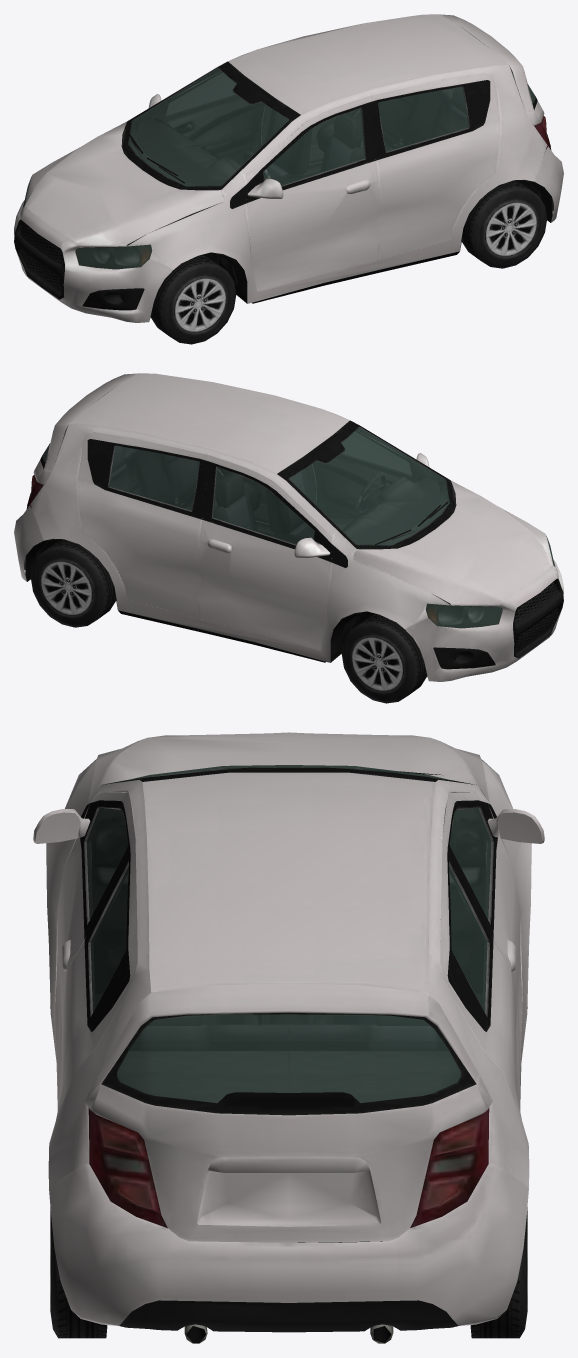
Rendered from car-ace11.glb.
3 views of the same model, one above another, from view 1: azimuth 30°, elevation 25°; view 2: azimuth 150°, elevation 25°; view 3: azimuth 270°, elevation 25° (orthographic). The views are drawn at different scales.
Parts seen in each view (by area): view 1: body_MODERNHATCH_body_0, door_fl_MODERNHATCH_body_0, door_rl_MODERNHATCH_body_0, body_MODERNHATCH_INTERIOR_0, hood_MODERNHATCH_body_0, body_GLASS_0, bumper_front_MODERNHATCH_body_0, wheel_fl_MODERNHATCH_body_0, wheel_rl_MODERNHATCH_body_0, door_fr_MODERNHATCH_INTERIOR_0, door_fl_GLASS_0, door_rl_GLASS_0 (+6 smaller); view 2: body_MODERNHATCH_body_0, door_fr_MODERNHATCH_body_0, door_rr_MODERNHATCH_body_0, body_MODERNHATCH_INTERIOR_0, hood_MODERNHATCH_body_0, body_GLASS_0, bumper_front_MODERNHATCH_body_0, wheel_fr_MODERNHATCH_body_0, wheel_rr_MODERNHATCH_body_0, door_fr_GLASS_0, door_rr_GLASS_0, door_fl_MODERNHATCH_INTERIOR_0 (+6 smaller); view 3: body_MODERNHATCH_body_0, door_rear_MODERNHATCH_body_0, bumper_rear_MODERNHATCH_body_0, body_MODERNHATCH_INTERIOR_0, door_rear_GLASS_0, hood_MODERNHATCH_body_0, door_rl_MODERNHATCH_body_0, door_fl_MODERNHATCH_body_0, door_rr_MODERNHATCH_body_0, door_fr_MODERNHATCH_body_0, door_fl_GLASS_0, door_fr_GLASS_0 (+5 smaller).
Part boxes in pixels (bbox=[...]): body_MODERNHATCH_body_0: bbox=[119, 14, 552, 318]; door_fl_MODERNHATCH_body_0: bbox=[245, 96, 378, 291]; door_rl_MODERNHATCH_body_0: bbox=[368, 73, 500, 259]; body_MODERNHATCH_INTERIOR_0: bbox=[128, 28, 535, 285]; hood_MODERNHATCH_body_0: bbox=[24, 121, 224, 247]; body_GLASS_0: bbox=[128, 68, 288, 186]; bumper_front_MODERNHATCH_body_0: bbox=[14, 200, 172, 322]; wheel_fl_MODERNHATCH_body_0: bbox=[150, 255, 236, 344]; wheel_rl_MODERNHATCH_body_0: bbox=[461, 180, 547, 268]; door_fr_MODERNHATCH_INTERIOR_0: bbox=[150, 70, 264, 159]; door_fl_GLASS_0: bbox=[263, 108, 365, 185]; door_rl_GLASS_0: bbox=[378, 86, 468, 151]; body_MODERNHATCH_body_0: bbox=[25, 373, 493, 677]; door_fr_MODERNHATCH_body_0: bbox=[199, 455, 332, 650]; door_rr_MODERNHATCH_body_0: bbox=[77, 432, 209, 618]; body_MODERNHATCH_INTERIOR_0: bbox=[42, 387, 449, 644]; hood_MODERNHATCH_body_0: bbox=[353, 480, 553, 606]; body_GLASS_0: bbox=[289, 427, 449, 545]; bumper_front_MODERNHATCH_body_0: bbox=[405, 559, 563, 681]; wheel_fr_MODERNHATCH_body_0: bbox=[341, 614, 427, 703]; wheel_rr_MODERNHATCH_body_0: bbox=[30, 539, 116, 627]; door_fr_GLASS_0: bbox=[212, 467, 314, 544]; door_rr_GLASS_0: bbox=[109, 445, 199, 510]; door_fl_MODERNHATCH_INTERIOR_0: bbox=[313, 429, 427, 518]; body_MODERNHATCH_body_0: bbox=[46, 760, 531, 1343]; door_rear_MODERNHATCH_body_0: bbox=[85, 983, 492, 1242]; bumper_rear_MODERNHATCH_body_0: bbox=[49, 1164, 528, 1332]; body_MODERNHATCH_INTERIOR_0: bbox=[91, 767, 486, 1102]; door_rear_GLASS_0: bbox=[117, 1014, 460, 1103]; hood_MODERNHATCH_body_0: bbox=[88, 732, 489, 802]; door_rl_MODERNHATCH_body_0: bbox=[56, 838, 137, 1119]; door_fl_MODERNHATCH_body_0: bbox=[33, 790, 135, 1086]; door_rr_MODERNHATCH_body_0: bbox=[440, 839, 521, 1119]; door_fr_MODERNHATCH_body_0: bbox=[442, 790, 544, 1086]; door_fl_GLASS_0: bbox=[86, 807, 128, 919]; door_fr_GLASS_0: bbox=[449, 807, 491, 919].
Size of the model in its own units: 151 by 56.69 by 67.71.
Materials: 3 (2 with a texture image).
